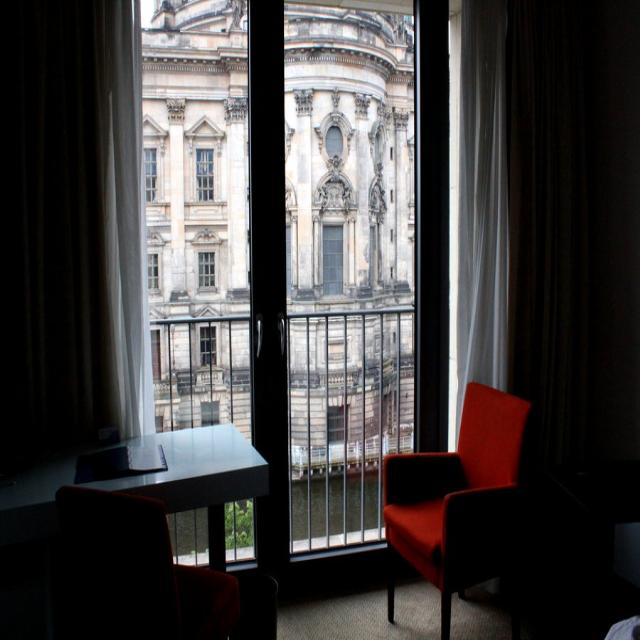Table: (0, 366, 288, 548)
chair: (385, 367, 559, 596), (40, 480, 248, 640)
